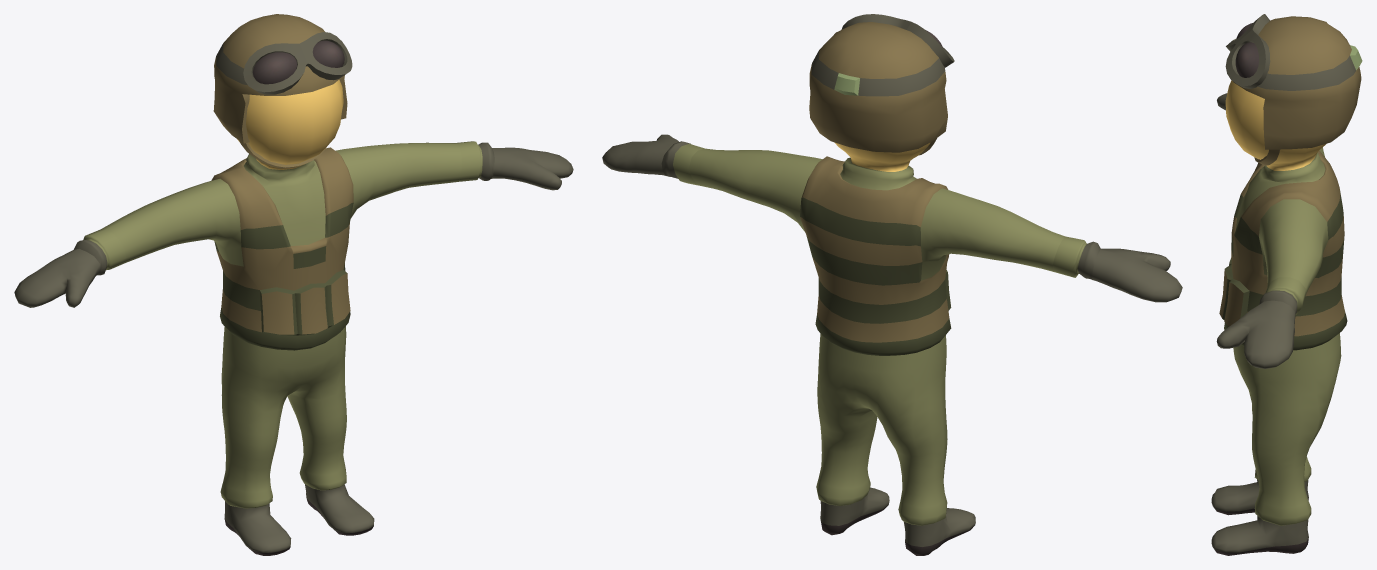
The model's file is Soldier.fbx.
The picture shows the model from 3 angles, left to right: view 1: azimuth 30°, elevation 25°; view 2: azimuth 150°, elevation 25°; view 3: azimuth 270°, elevation 25°; orthographic projection. The views are drawn at different scales.
Parts seen in each view (by area): view 1: Soldier; view 2: Soldier; view 3: Soldier.
Boxes of the visible parts, <box> form: Soldier: <box>14,14,573,555</box>; Soldier: <box>602,14,1182,555</box>; Soldier: <box>1211,14,1362,555</box>.
Size of the model in its own units: 24.14 by 20.7 by 5.59.
